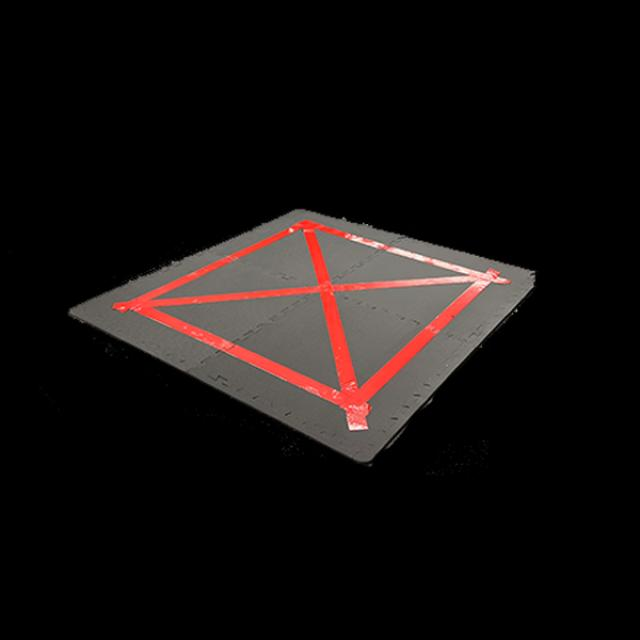landingPads: (62, 209, 537, 471)
